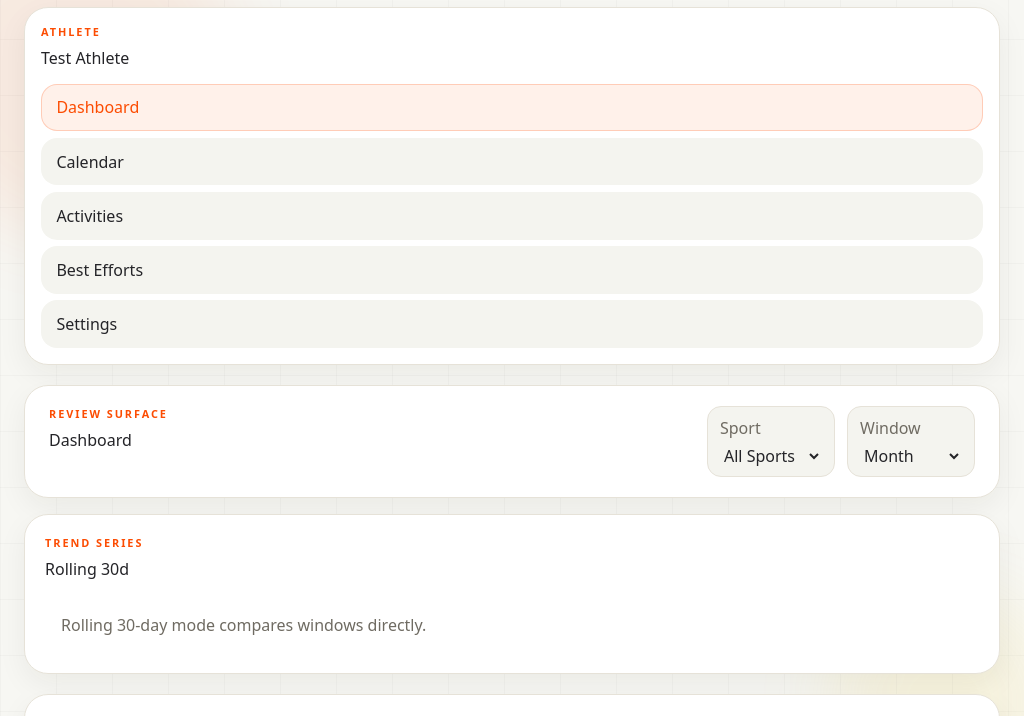
Test case: App › ignores repeated save clicks while the profile request is in flight
The image size is (1024, 716).
What coordinates should you click on to do the following:
click the button "Settings"
I would click on:
 (87, 324)
Its box is left=41, top=300, right=983, bottom=348.
(page scrolled)
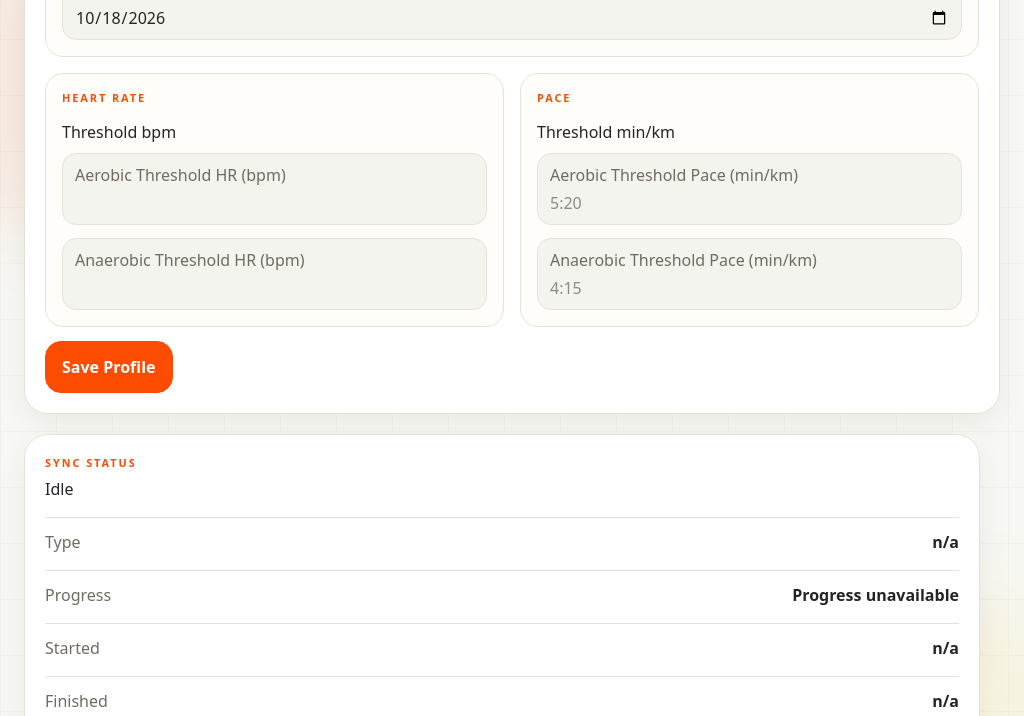
What coordinates should you click on to do the following:
click the button "Save Profile"
I would click on:
 (109, 367)
Its box is left=45, top=341, right=172, bottom=393.
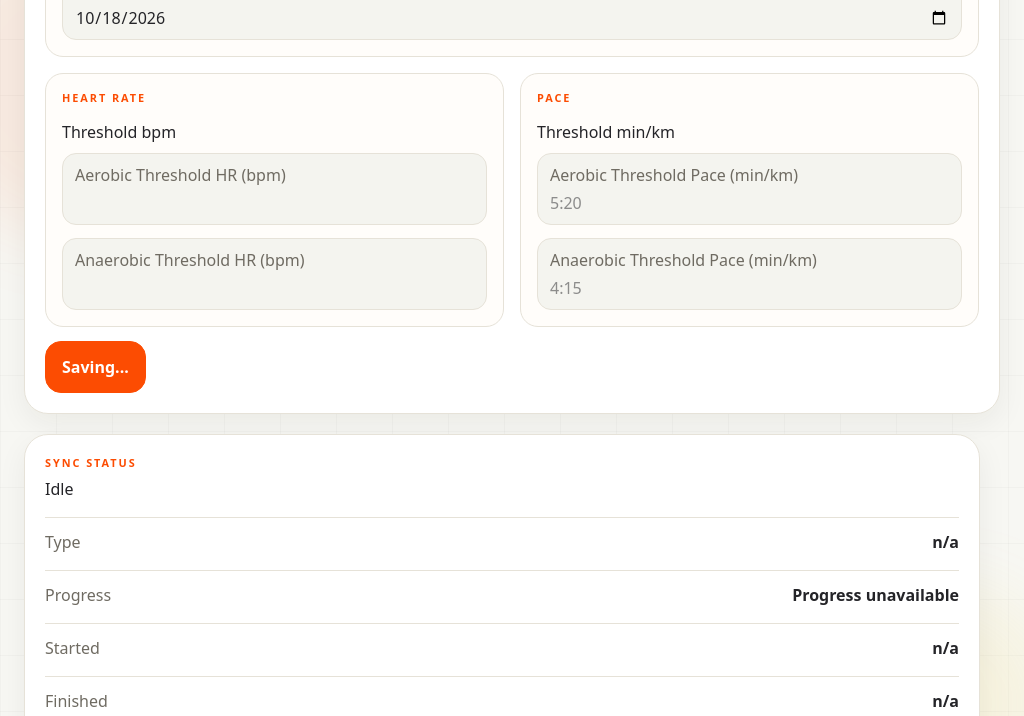
What coordinates should you click on to do the following:
click the button named "save profile"
I would click on:
 (95, 367)
Its box is left=45, top=341, right=146, bottom=393.
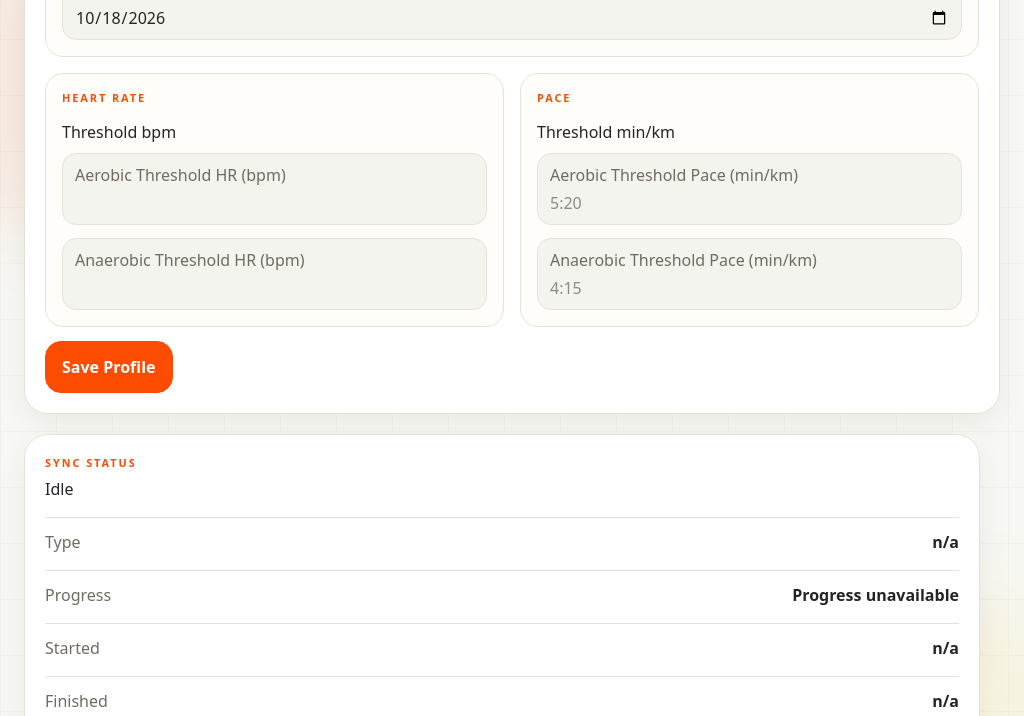
expect the button "Save Profile" is shown: met, box left=45, top=341, right=172, bottom=393
